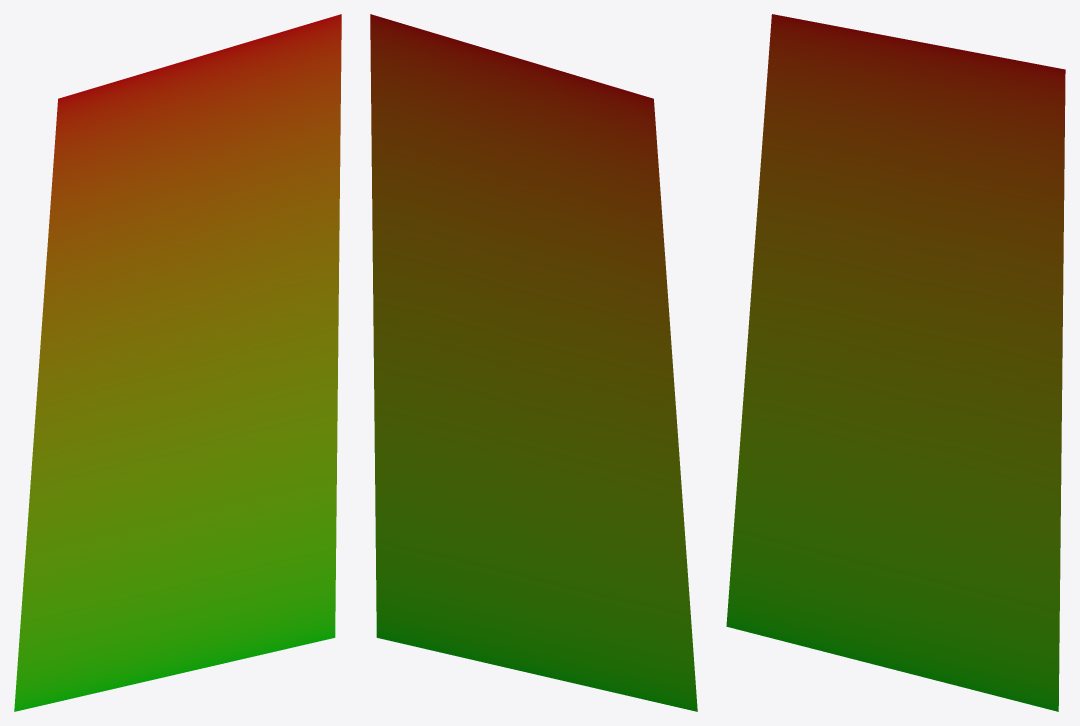
The model's file is Tundra Grass_LOD7_Var7_wk2oaeyqx.fbx.
The picture shows the model from 3 angles, left to right: view 1: azimuth 30°, elevation 25°; view 2: azimuth 150°, elevation 25°; view 3: azimuth 330°, elevation 25°; orthographic projection. The views are drawn at different scales.
Visible parts, largest first — view 1: _79xd_Var7_LOD7; view 2: _79xd_Var7_LOD7; view 3: _79xd_Var7_LOD7.
Part boxes in pixels (x1,y1,x2,y2): _79xd_Var7_LOD7: (14, 14, 341, 711); _79xd_Var7_LOD7: (370, 14, 697, 711); _79xd_Var7_LOD7: (726, 14, 1065, 711).
Size of the model in its own units: 40.56 by 73.62 by 2.88e-06.
